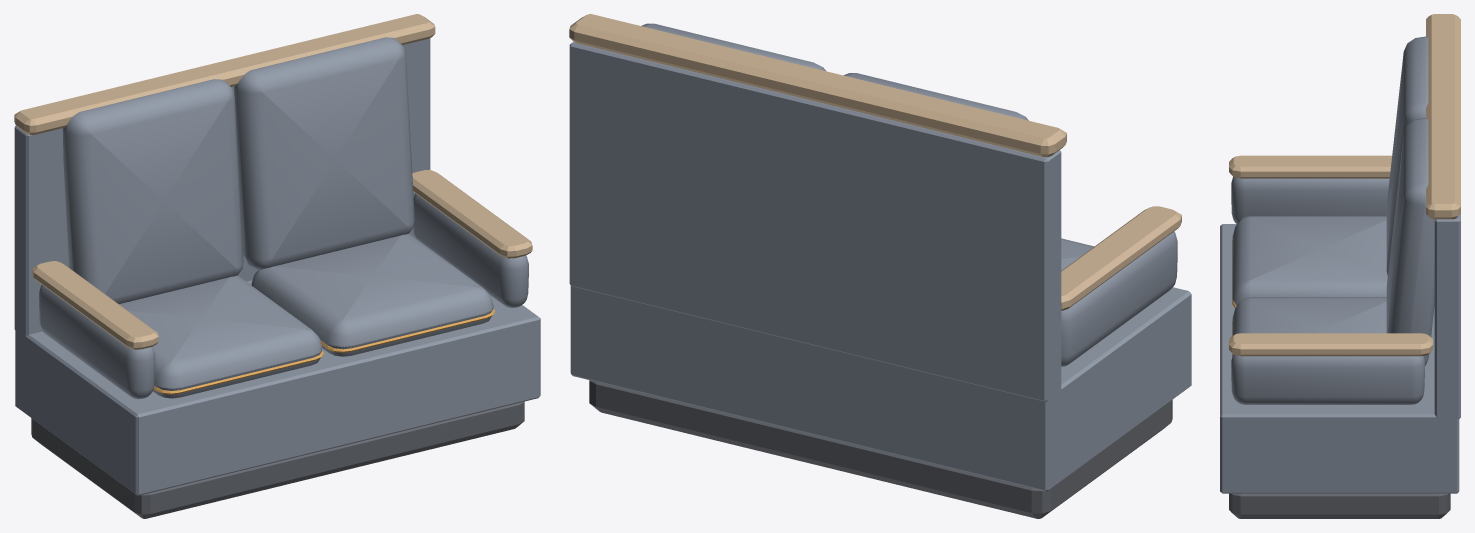
File: L-visitor-sofa-two-seat.glb
The picture shows the model from 3 angles, left to right: view 1: azimuth 30°, elevation 25°; view 2: azimuth 150°, elevation 25°; view 3: azimuth 270°, elevation 25°; orthographic projection. The views are drawn at different scales.
Parts seen in each view (by area): view 1: visitor-sofa-two-seat; view 2: visitor-sofa-two-seat; view 3: visitor-sofa-two-seat.
Boxes of the visible parts, box(x1,y1,x2,y2) form: visitor-sofa-two-seat: box(14, 14, 540, 518); visitor-sofa-two-seat: box(569, 14, 1191, 518); visitor-sofa-two-seat: box(1220, 14, 1460, 518).
Size of the model in its own units: 1.58 by 1.22 by 0.8251.
